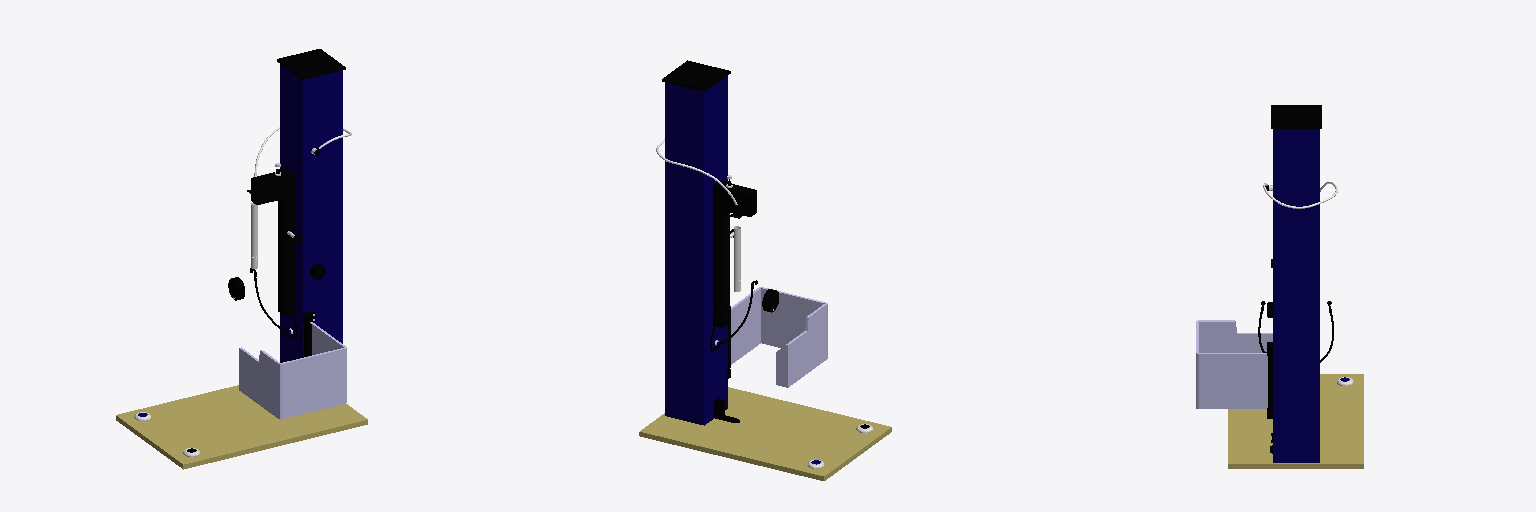
3 renders of one model, left to right at view 1: azimuth 30°, elevation 25°; view 2: azimuth 150°, elevation 25°; view 3: azimuth 270°, elevation 25°, orthographic.
Parts seen in each view (by area): view 1: polySurface68; view 2: polySurface68; view 3: polySurface68.
Boxes of the visible parts, box(x1,y1,x2,y2) form: polySurface68: box(116, 49, 367, 469); polySurface68: box(639, 60, 891, 480); polySurface68: box(1196, 105, 1363, 468).
Bounding box in the file's own units: 45.43 × 75.73 × 33.68.
1 materials, 1 textured.